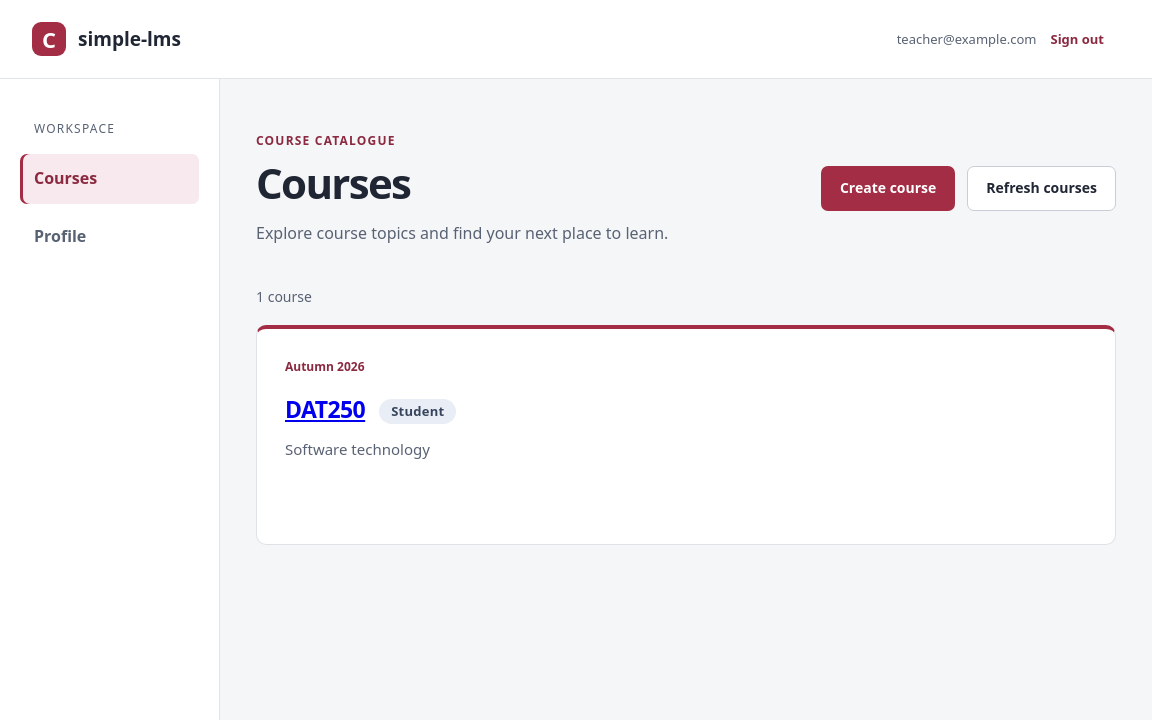
Test: App › navigates from the course list into a course detail page
Click the link "Courses". click: (110, 179)
box: [20,154,199,204]
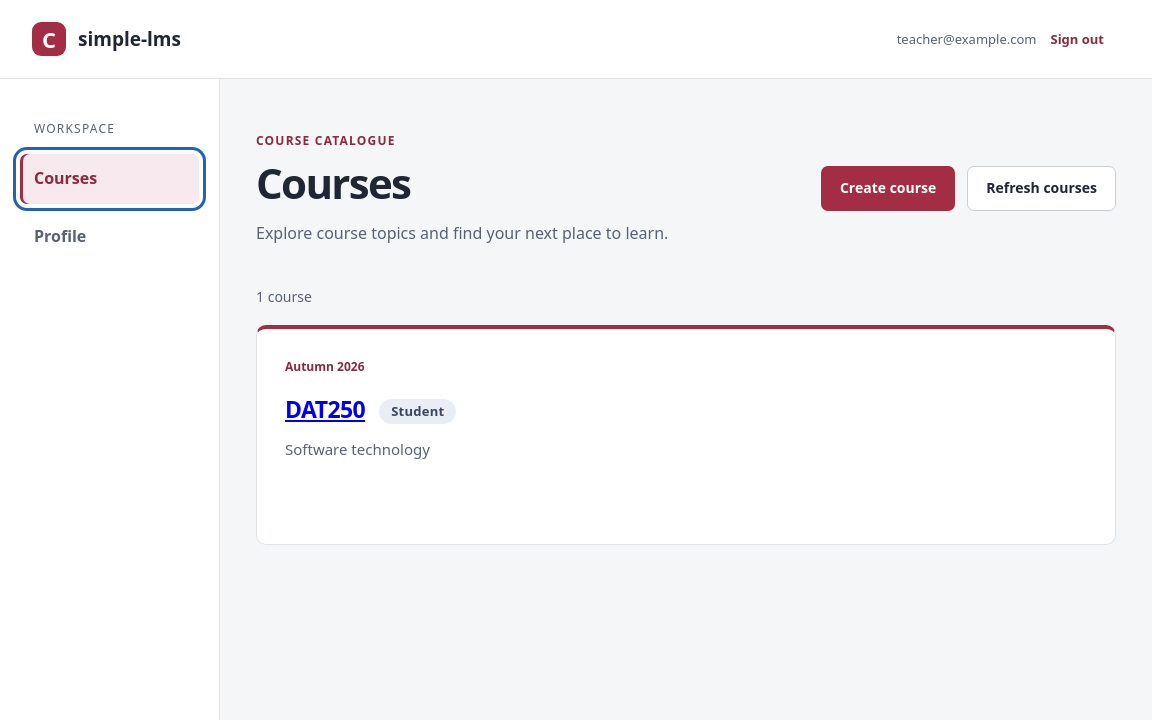
Click the link "DAT250". click: (325, 409)
box: [285,393,365,425]
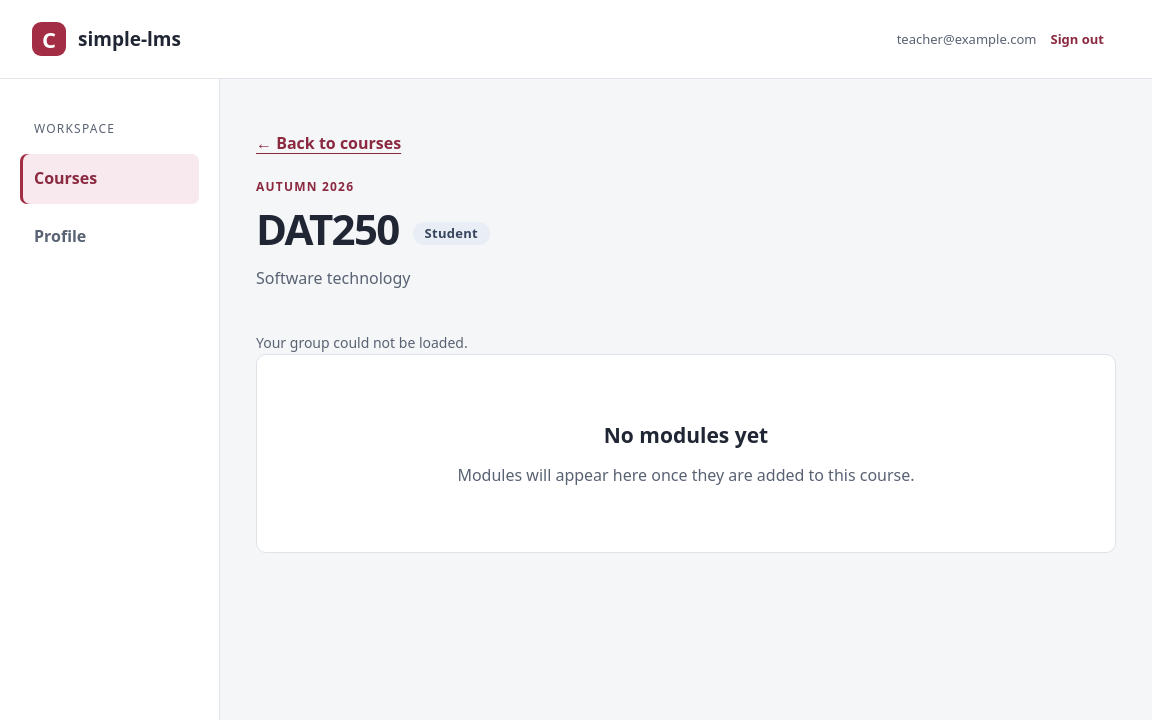
Expected: the heading "DAT250 Student" is shown, [256,204,490,254]
Expected: the heading "No modules yet" is shown, [604,421,768,449]
